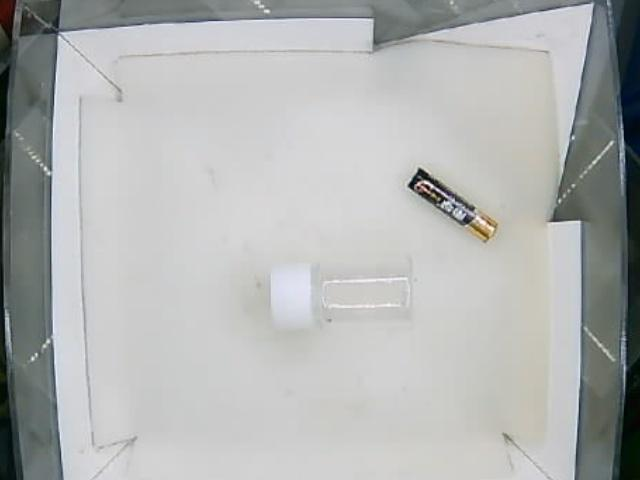Battery: (405, 169, 498, 241)
Bottle: (271, 256, 417, 326)
